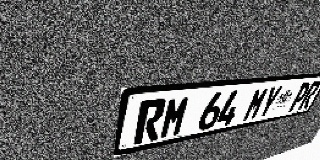4: (215, 89, 245, 128)
6: (196, 91, 227, 132)
M: (159, 95, 192, 140), (242, 87, 270, 122)
P: (287, 82, 313, 112)
R: (133, 98, 167, 145), (297, 81, 320, 110)
Y: (256, 85, 284, 119)
